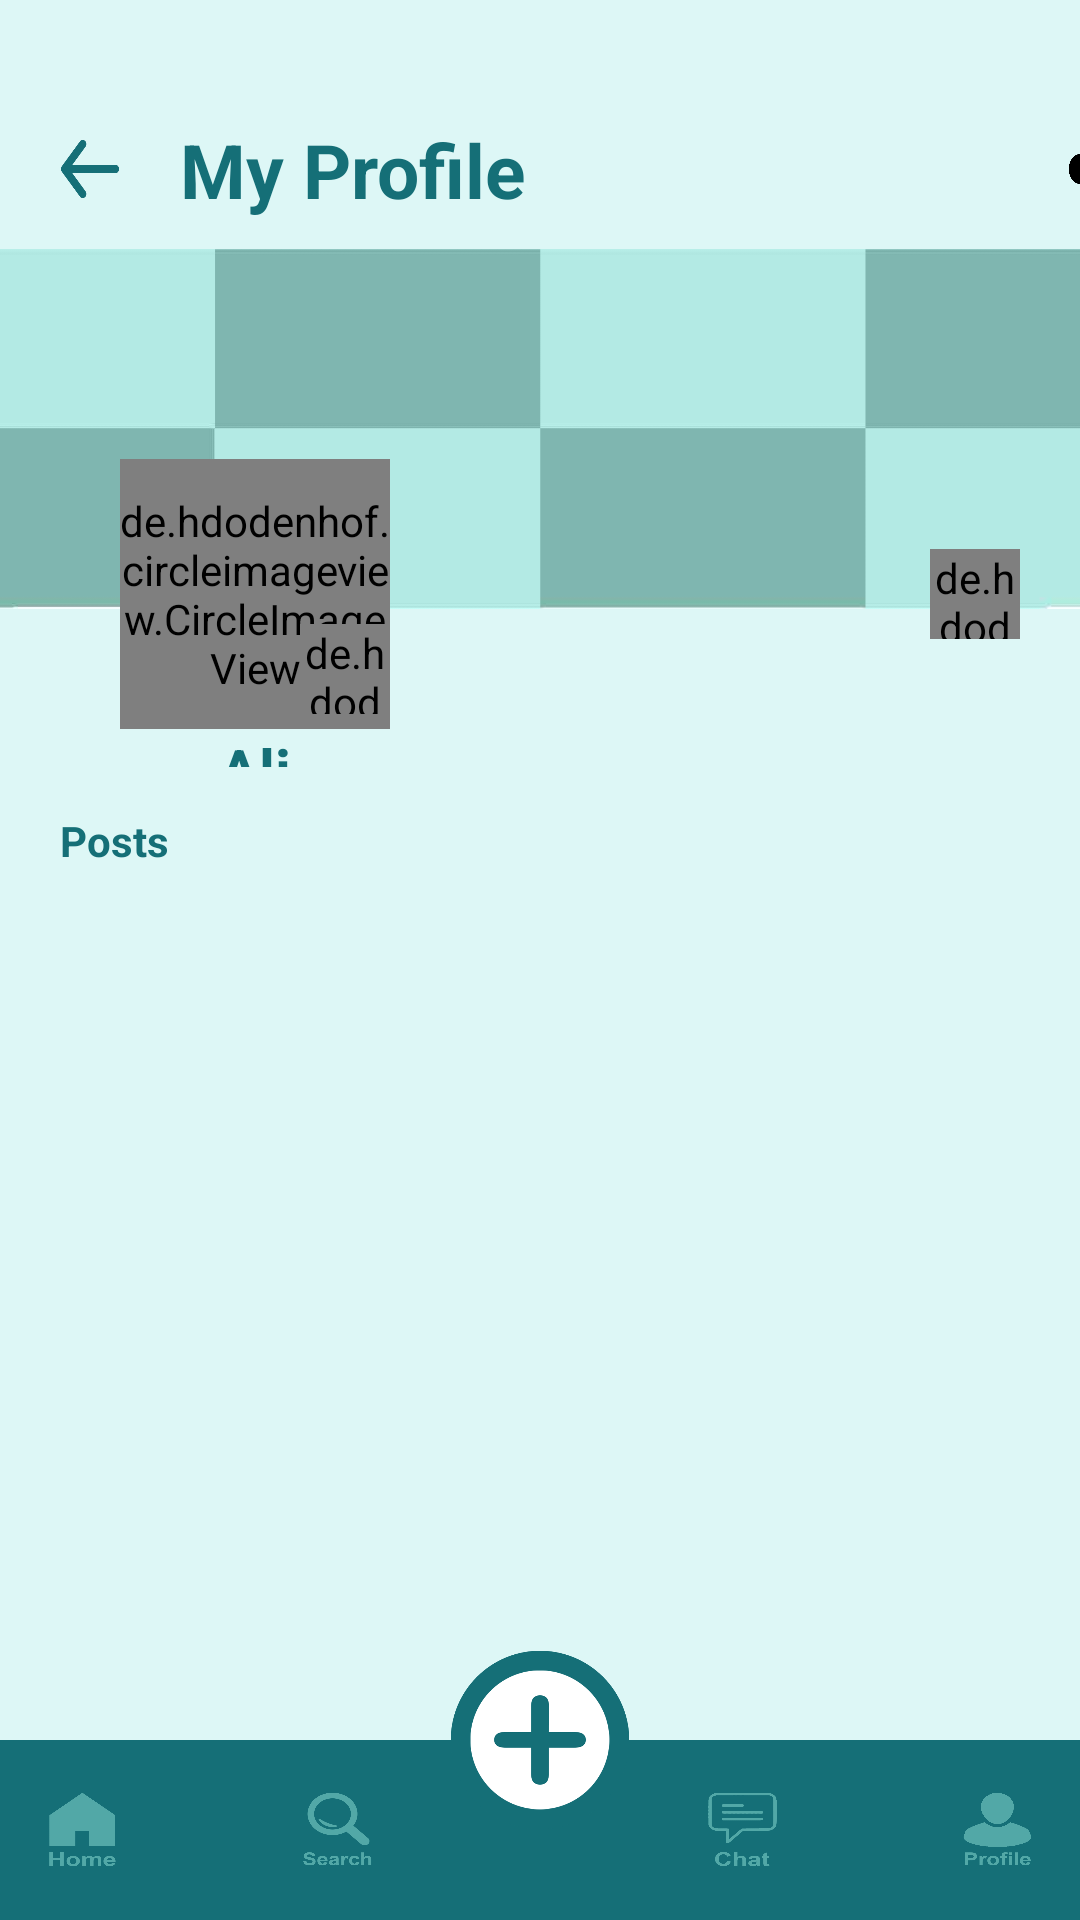

Icons on this 1080x1920 Android screen, each with the point to tap as (x=x, y=y):
back arrow: (x=90, y=169)
plus sign: (x=540, y=1740)
